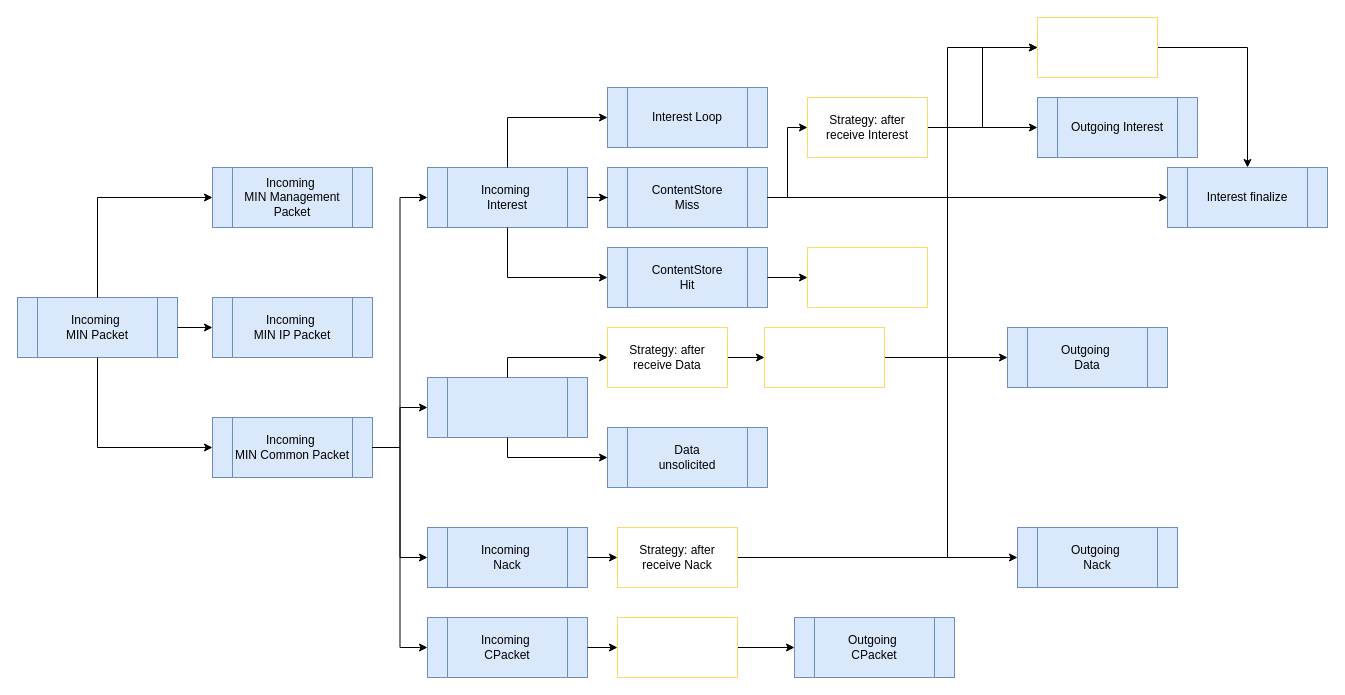
The diagram is 1345 pixels wide and 695 high, and some of its shapes have lost their labels. Each missing label, with the centre of its shape:
Incoming Data: (507,407)
Strategy: after Cs Hit: (867,277)
Strategy: after receive CPacket: (677,647)
Strategy: before satisfy Interest: (824,357)
Strategy: update PIT entry expiry timer: (1097,47)
